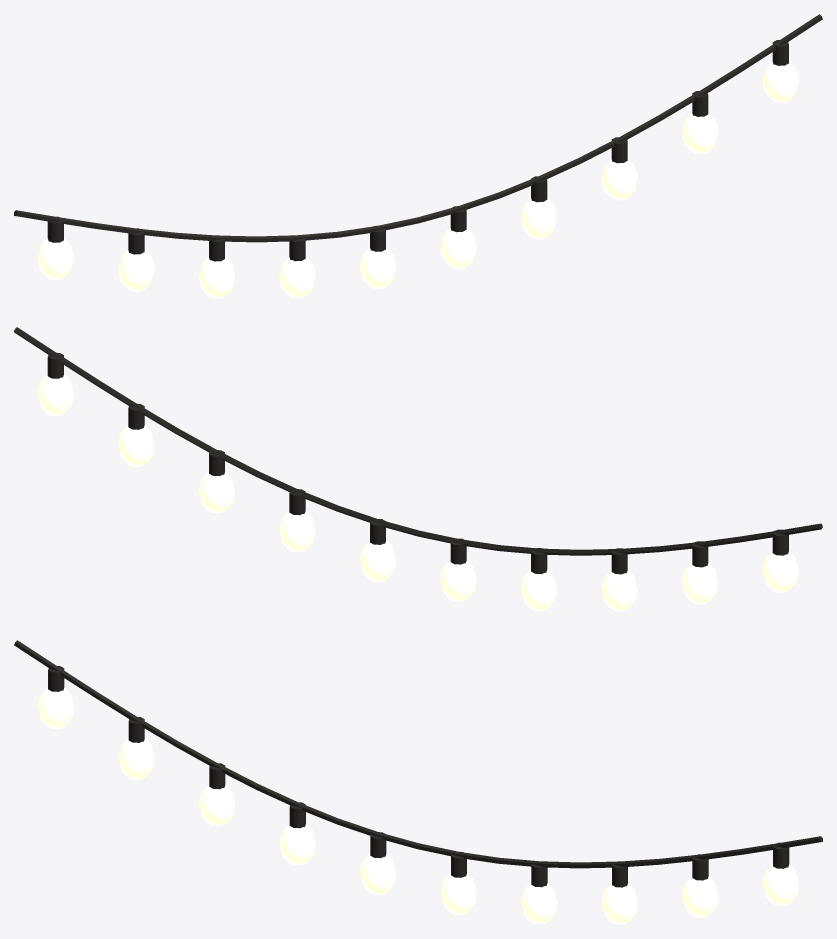
Rendered from cordao_luzes.glb.
The picture shows the model from 3 angles, top to bottom: view 1: azimuth 30°, elevation 25°; view 2: azimuth 150°, elevation 25°; view 3: azimuth 330°, elevation 25°; orthographic projection.
Parts seen in each view (by area): view 1: Cordao_Luzes; view 2: Cordao_Luzes; view 3: Cordao_Luzes.
Part boxes in pixels (left/top/right/bottom): Cordao_Luzes: left=14, top=14, right=822, bottom=298; Cordao_Luzes: left=14, top=327, right=822, bottom=611; Cordao_Luzes: left=14, top=640, right=822, bottom=924.
Bounding box in the file's own units: 2 × 0.3931 × 0.08.
